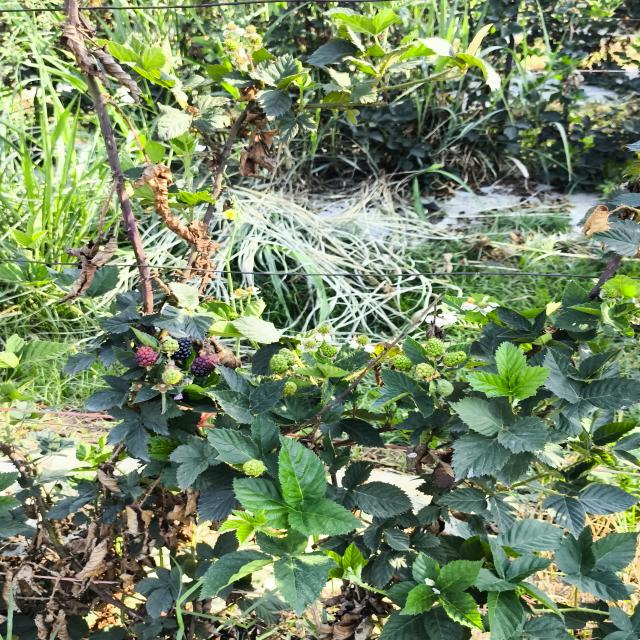maduro: (174, 337, 192, 359)
marron: (190, 354, 218, 377), (135, 346, 158, 366)
verde: (415, 363, 439, 381), (442, 351, 467, 367), (243, 459, 266, 476), (425, 338, 445, 357), (269, 354, 288, 373), (162, 367, 182, 384), (393, 354, 412, 371), (278, 348, 295, 365), (161, 337, 179, 353), (319, 342, 338, 357), (282, 381, 297, 396)
